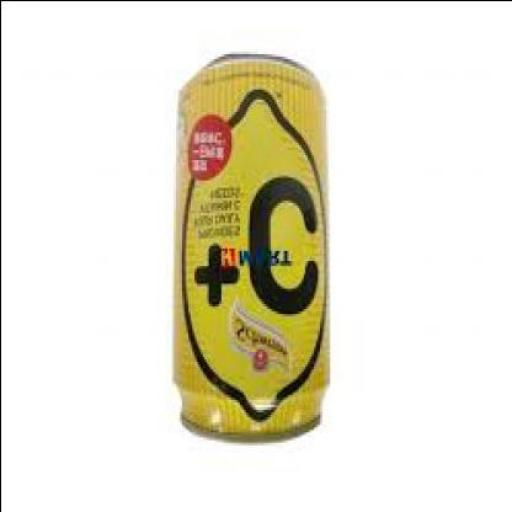metal: (169, 56, 325, 444)
